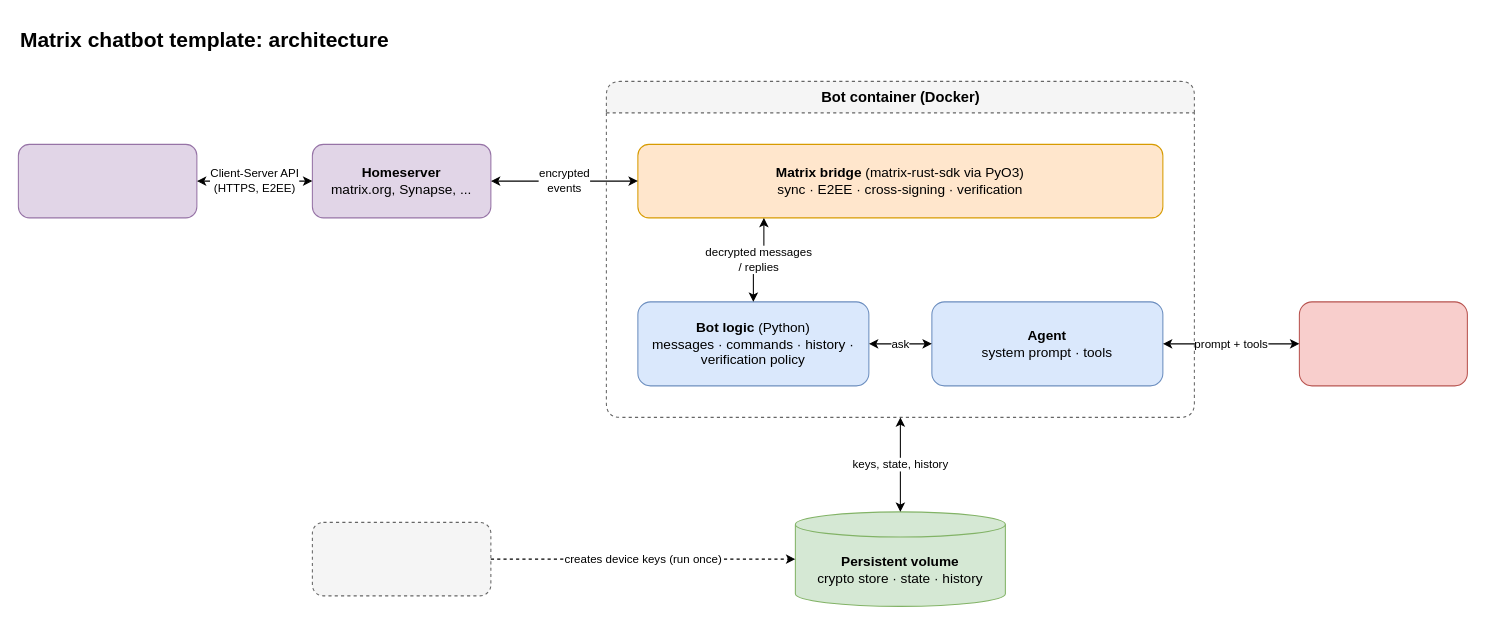
The diagram is 1486 pixels wide and 625 high, and some of its shapes have lost their labels. Here are the shapes that lost their labels. From the top down, the centre of each, then its label:
At (x=107, y=180): "Matrix clients Element X, Element Web, ...".
At (x=1382, y=343): "LLM API Gemini (default)".
At (x=401, y=558): "Login script one-time device + cross-signing setup".
